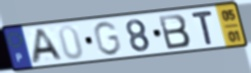0: (57, 24, 85, 61)
8: (125, 18, 152, 53)
A: (30, 27, 66, 65)
B: (157, 12, 193, 51)
G: (91, 20, 123, 57)
T: (189, 9, 215, 46)
